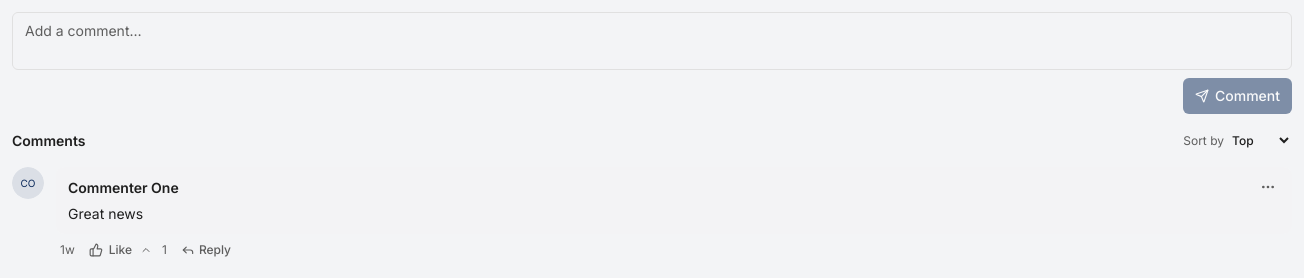
CommentThread › reacts to a comment optimistically
Check: the text "Great news" is shown, box [68, 205, 143, 222]
Click the button with aria-label "Like this comment": [110, 250] box [83, 238, 138, 262]
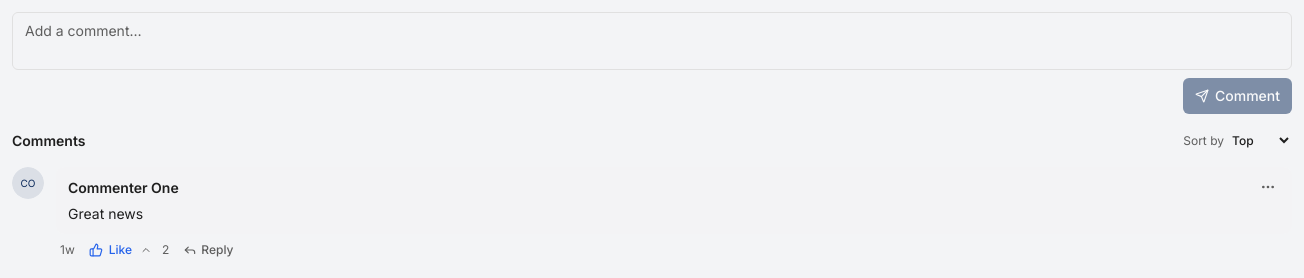
Check: the text named "2 reactions" is shown, box [162, 242, 169, 258]
